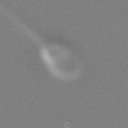normal: (1, 3, 45, 46)
